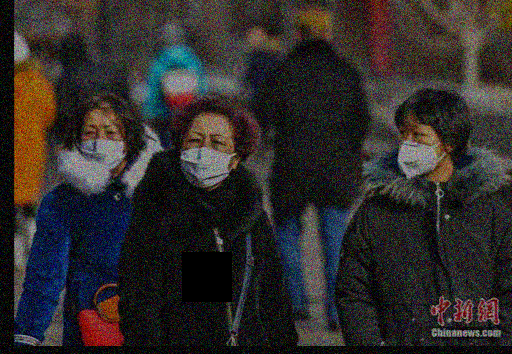with_mask: (180, 128, 236, 188), (397, 118, 444, 176), (78, 121, 124, 166)
